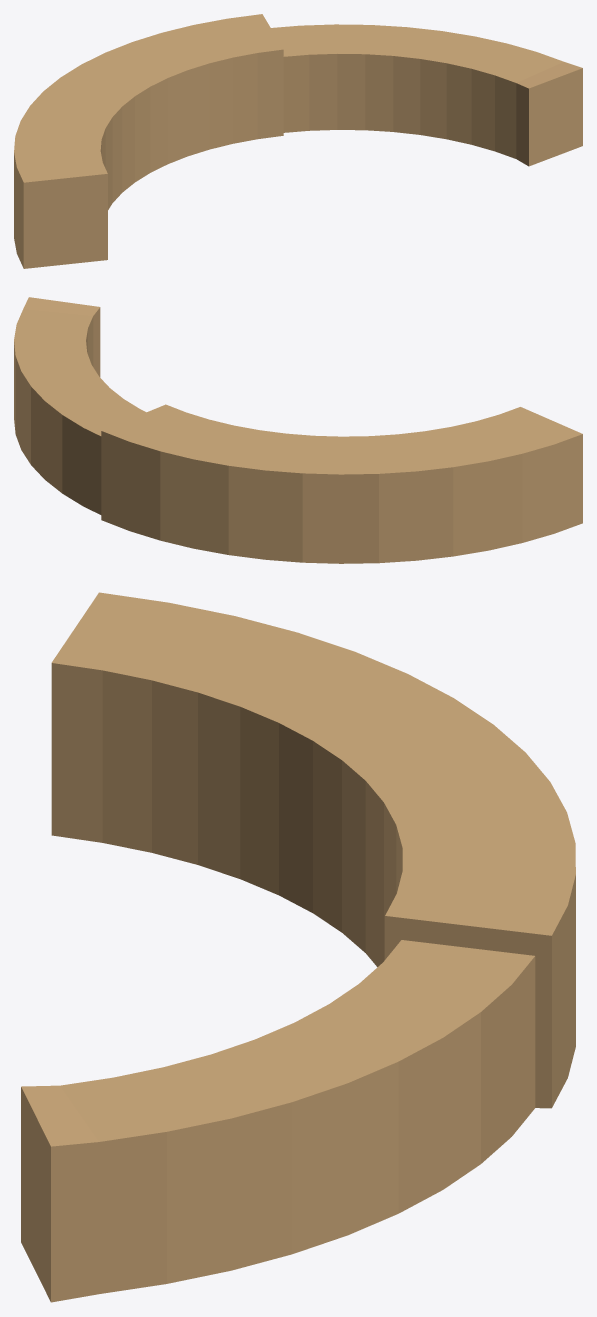
The model's file is escritoriomesa.glb.
3 views of the same model, one above another, from view 1: azimuth 30°, elevation 25°; view 2: azimuth 150°, elevation 25°; view 3: azimuth 270°, elevation 25° (orthographic). The views are drawn at different scales.
Parts seen in each view (by area): view 1: Cube.004; view 2: Cube.004; view 3: Cube.004.
Boxes of the visible parts, <box> form: Cube.004: <box>14,14,582,268</box>; Cube.004: <box>14,297,582,563</box>; Cube.004: <box>21,592,575,1302</box>.
Bounding box in the file's own units: 29.25 × 4.5 × 12.84.
